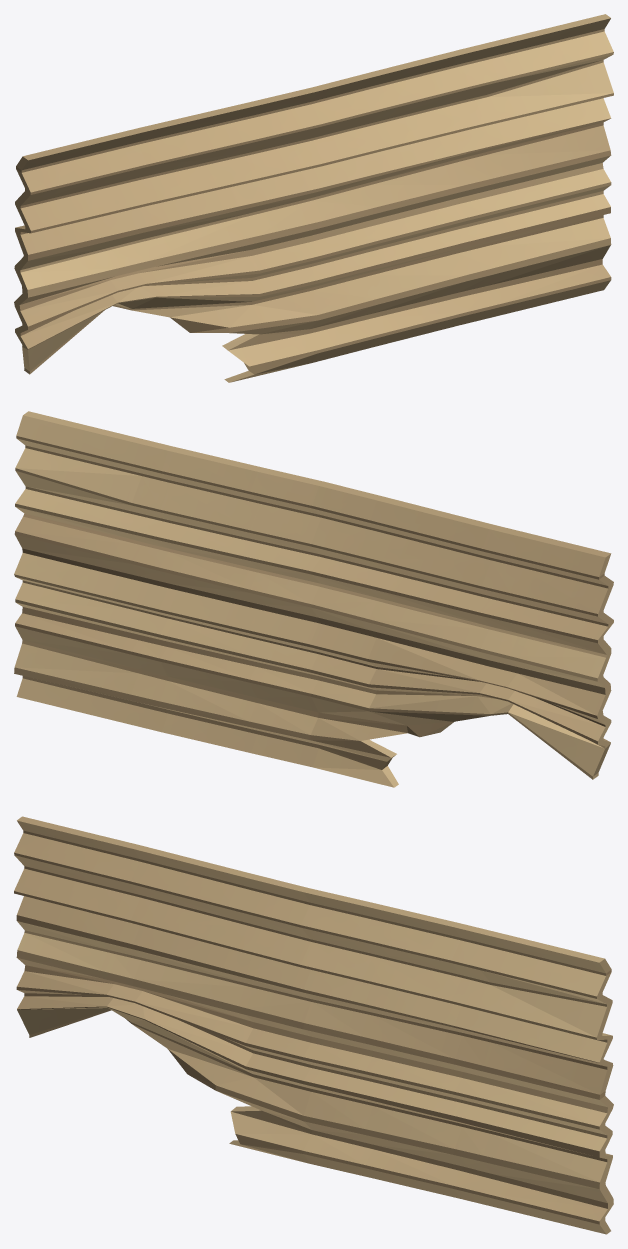
The model's file is garage_door_A.obj.
3 renders of one model, top to bottom at view 1: azimuth 30°, elevation 25°; view 2: azimuth 150°, elevation 25°; view 3: azimuth 330°, elevation 25°, orthographic.
Visible parts, largest first — view 1: garage_door_A_Mesh; view 2: garage_door_A_Mesh; view 3: garage_door_A_Mesh.
Part boxes in pixels (x1,y1,x2,y2): garage_door_A_Mesh: (14, 14, 613, 382); garage_door_A_Mesh: (14, 411, 613, 787); garage_door_A_Mesh: (14, 816, 613, 1234).
Bounding box in the file's own units: 2.89 × 1.31 × 0.1626.
